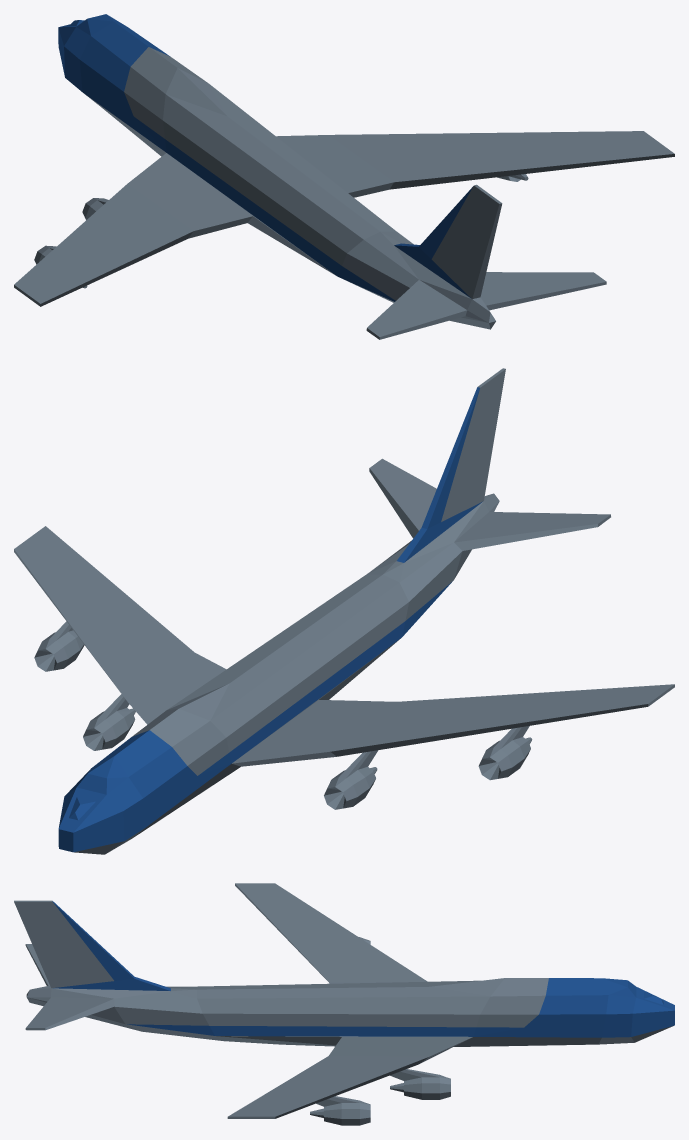
Rendered from VIP-VC25.glb.
3 renders of one model, top to bottom at view 1: azimuth 30°, elevation 25°; view 2: azimuth 150°, elevation 25°; view 3: azimuth 270°, elevation 25°, orthographic. The views are drawn at different scales.
Bounding box in the file's own units: 34.26 × 10.52 × 41.02.
